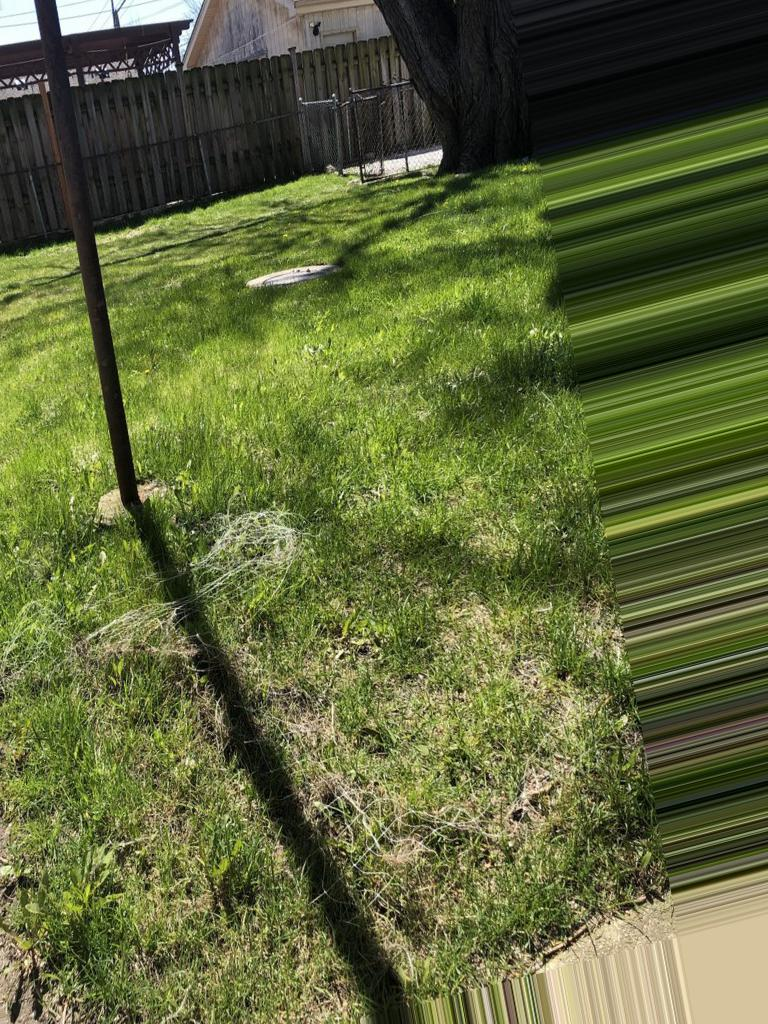patch: (285, 720, 331, 751), (408, 688, 444, 714), (535, 776, 562, 799), (503, 804, 531, 826), (399, 823, 423, 841)
